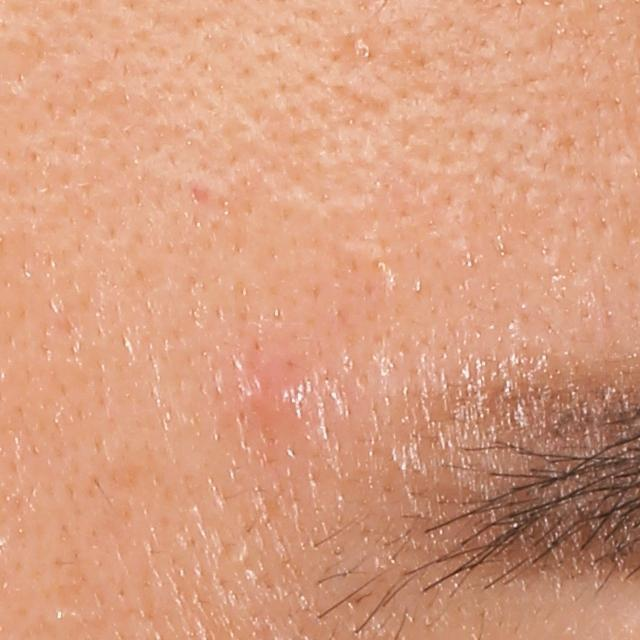comedo: (351, 34, 370, 58)
papule: (240, 357, 317, 435)
